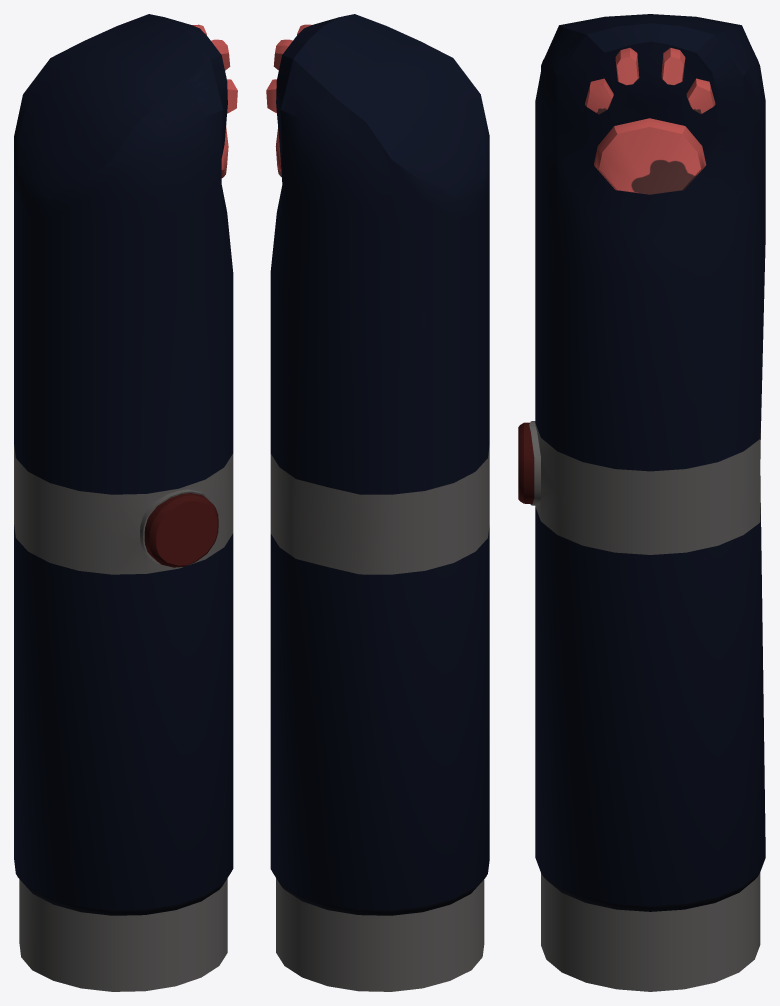
The model's file is laser.fbx.
3 renders of one model, left to right at view 1: azimuth 30°, elevation 25°; view 2: azimuth 150°, elevation 25°; view 3: azimuth 270°, elevation 25°, orthographic. The views are drawn at different scales.
Parts seen in each view (by area): view 1: Cylinder; view 2: Cylinder; view 3: Cylinder.
Boxes of the visible parts, left/top/right/bottom form: Cylinder: left=14, top=14, right=237, bottom=991; Cylinder: left=266, top=14, right=489, bottom=991; Cylinder: left=518, top=14, right=765, bottom=991.
Bounding box in the file's own units: 200 × 920 × 215.
